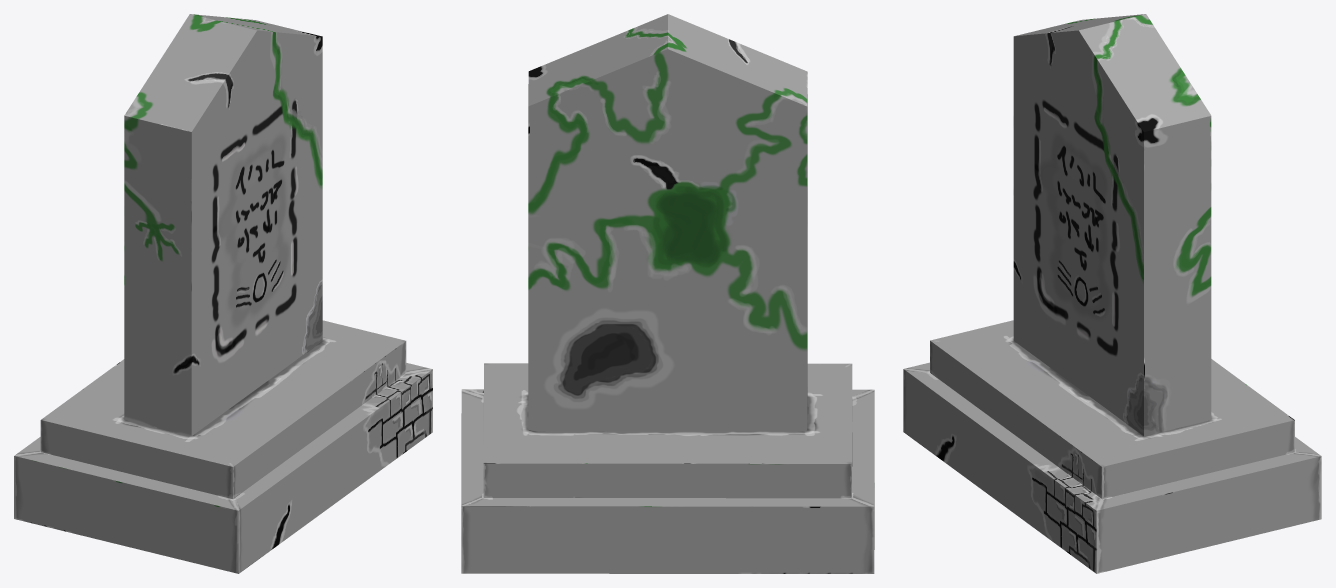
Rendered from tumba.gltf.
3 views of the same model, side by side, from view 1: azimuth 30°, elevation 25°; view 2: azimuth 150°, elevation 25°; view 3: azimuth 270°, elevation 25° (orthographic). The views are drawn at different scales.
Visible parts, largest first — view 1: Sepultura_Cube; view 2: Sepultura_Cube; view 3: Sepultura_Cube.
Boxes of the visible parts, box(x1,y1,x2,y2) form: Sepultura_Cube: box(14, 14, 432, 573); Sepultura_Cube: box(461, 14, 874, 573); Sepultura_Cube: box(903, 14, 1321, 573).
Size of the model in its own units: 4.19 by 4.5 by 3.76.
1 material, 1 textured.
